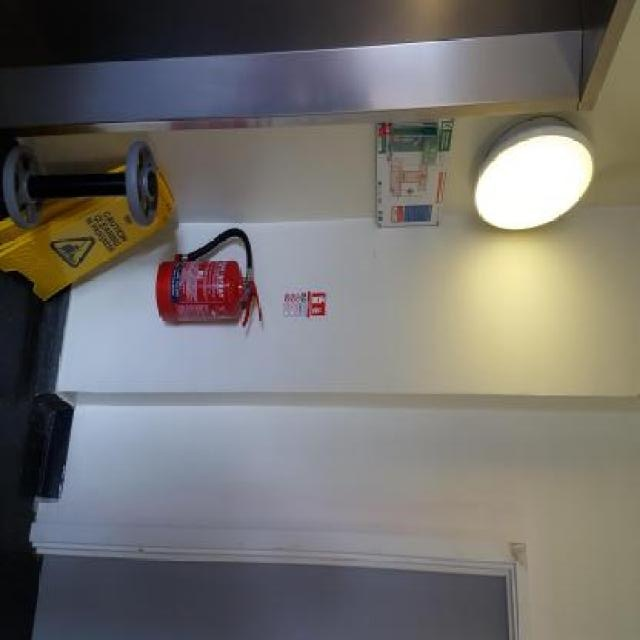fire extinguisher: (155, 228, 263, 332)
